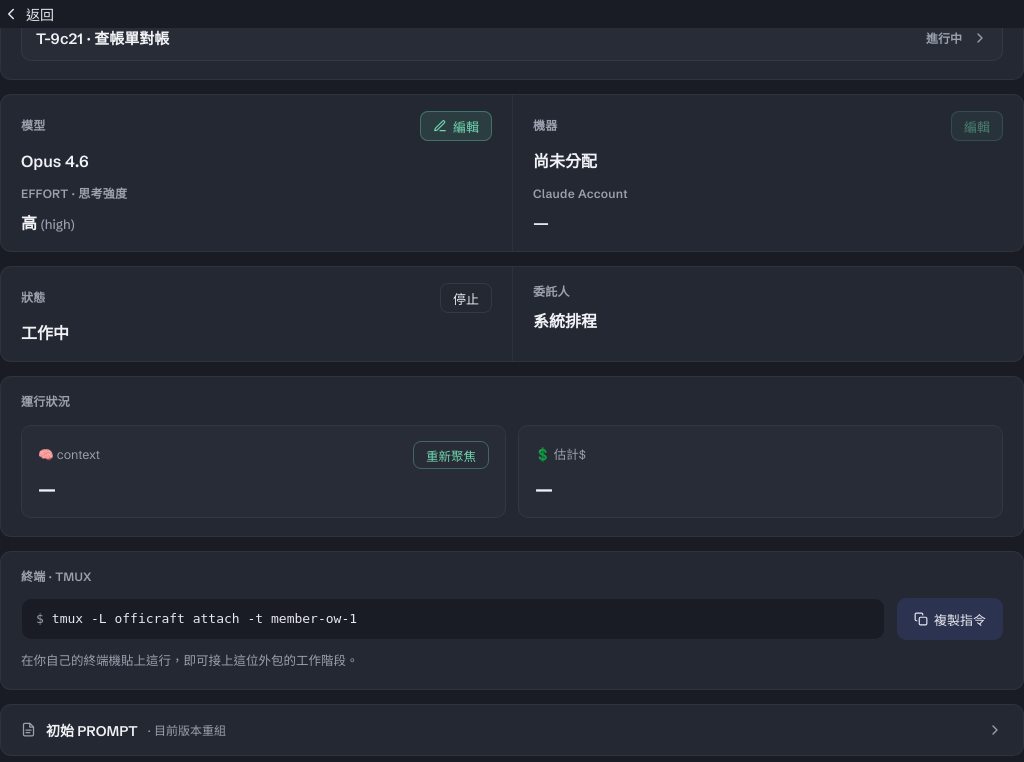
it: WorkerDetailPanel — initial-prompt preview (T-ba6b) › expands to the boot-context preview and carries the honest re-assembly caveat
The image size is (1024, 762).
(page scrolled)
Click the button with test id "worker-detail-prompt-toggle" at x=92, y=731, box [1, 705, 1023, 755]
(page scrolled)
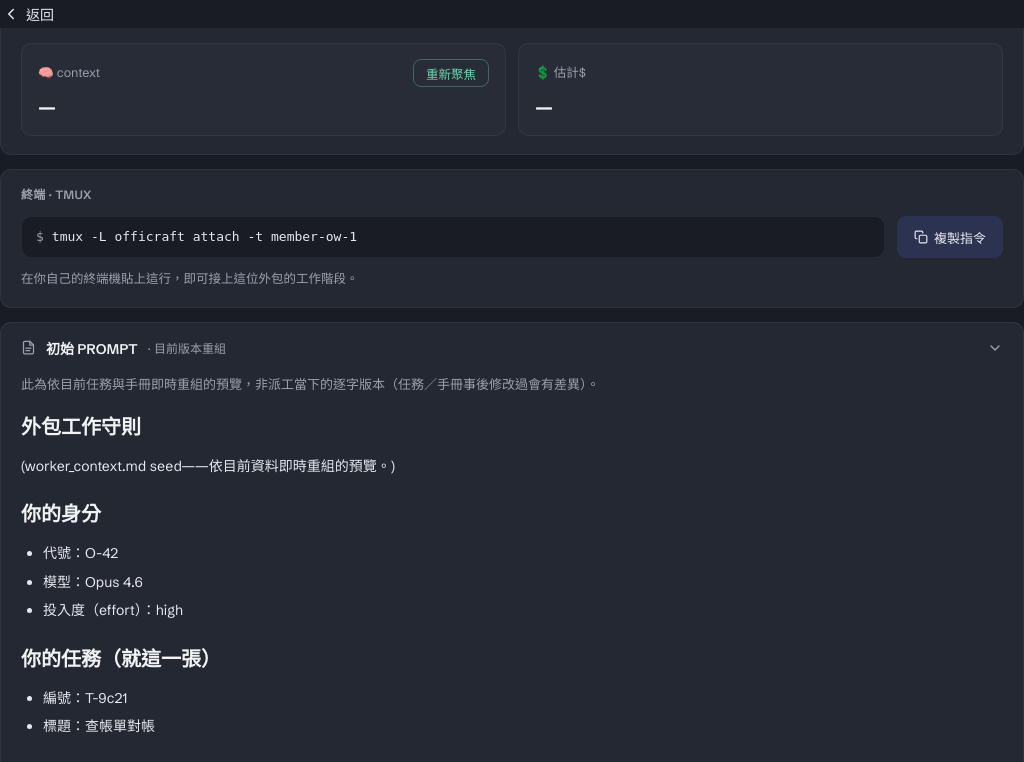
expect the element with test id "worker-detail-prompt-body" shows "O-42": met, box [43, 544, 118, 562]
expect the element with test id "worker-detail-prompt-body" shows "查帳單對帳": met, box [43, 717, 155, 735]
expect the text with test id "worker-detail-prompt-note" shows "非派工當下": met, box [21, 376, 600, 392]
